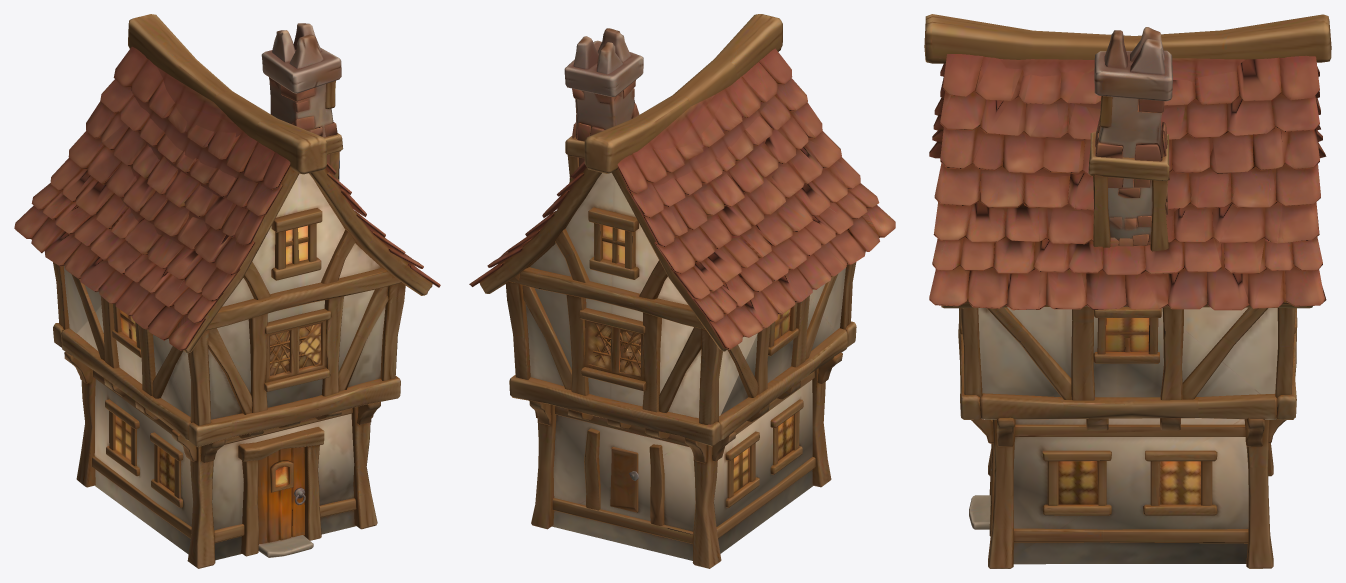
Rendered from house_crooked.glb.
3 renders of one model, left to right at view 1: azimuth 30°, elevation 25°; view 2: azimuth 150°, elevation 25°; view 3: azimuth 270°, elevation 25°, orthographic. The views are drawn at different scales.
Parts seen in each view (by area): view 1: geometry_0; view 2: geometry_0; view 3: geometry_0.
Part boxes in pixels (box(x1,y1,x2,y2)): geometry_0: box(14, 14, 440, 568); geometry_0: box(469, 14, 895, 568); geometry_0: box(924, 14, 1331, 568).
Bounding box in the file's own units: 0.5869 × 0.9521 × 0.6646.
Materials: 1 (1 with a texture image).
